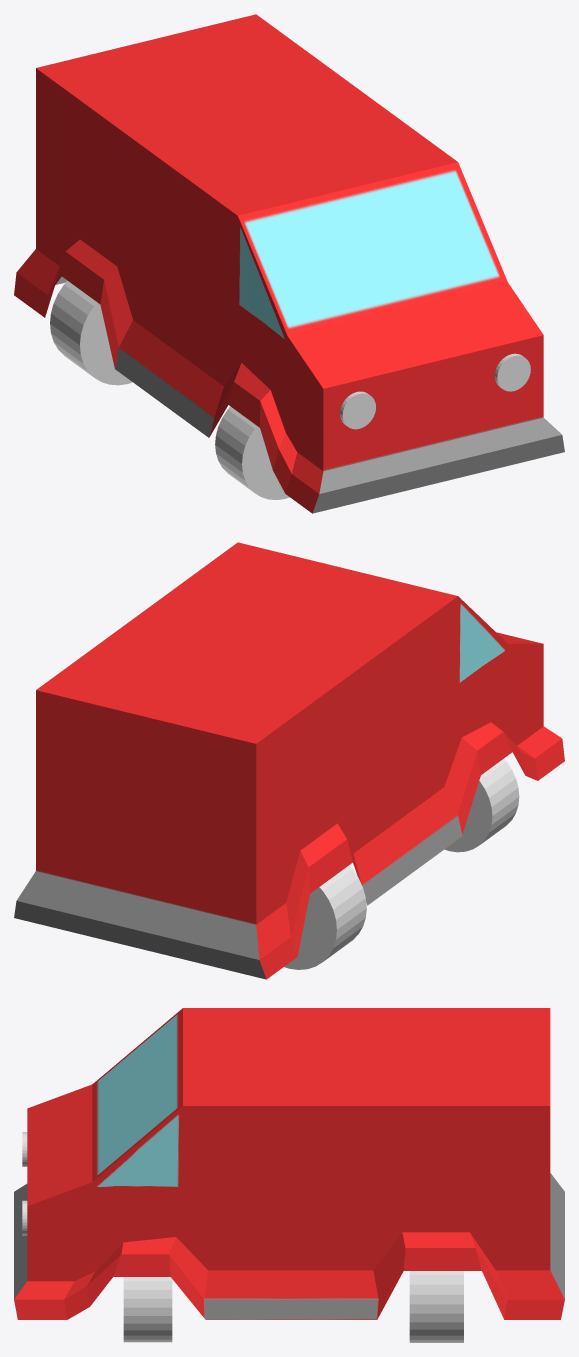
The model's file is Map.fbx.
The picture shows the model from 3 angles, top to bottom: view 1: azimuth 30°, elevation 25°; view 2: azimuth 150°, elevation 25°; view 3: azimuth 270°, elevation 25°; orthographic projection. The views are drawn at different scales.
Parts seen in each view (by area): view 1: Cube, Cylinder.004, Cylinder.005, Cylinder.003, Cylinder.002; view 2: Cube, Cylinder.004, Cylinder.005; view 3: Cube, Cylinder.001, Cylinder.
Boxes of the visible parts, bbox=[...] form: Cube: bbox=[14, 14, 564, 513]; Cylinder.004: bbox=[50, 280, 132, 385]; Cylinder.005: bbox=[215, 406, 289, 499]; Cylinder.003: bbox=[340, 391, 375, 429]; Cylinder.002: bbox=[494, 353, 530, 391]; Cube: bbox=[14, 542, 564, 979]; Cylinder.004: bbox=[284, 865, 366, 969]; Cylinder.005: bbox=[444, 759, 519, 852]; Cube: bbox=[14, 1008, 564, 1319]; Cylinder.001: bbox=[409, 1271, 463, 1342]; Cylinder: bbox=[123, 1277, 172, 1342].
Size of what is drawn, in the model's own units: 866 by 761 by 1588.
